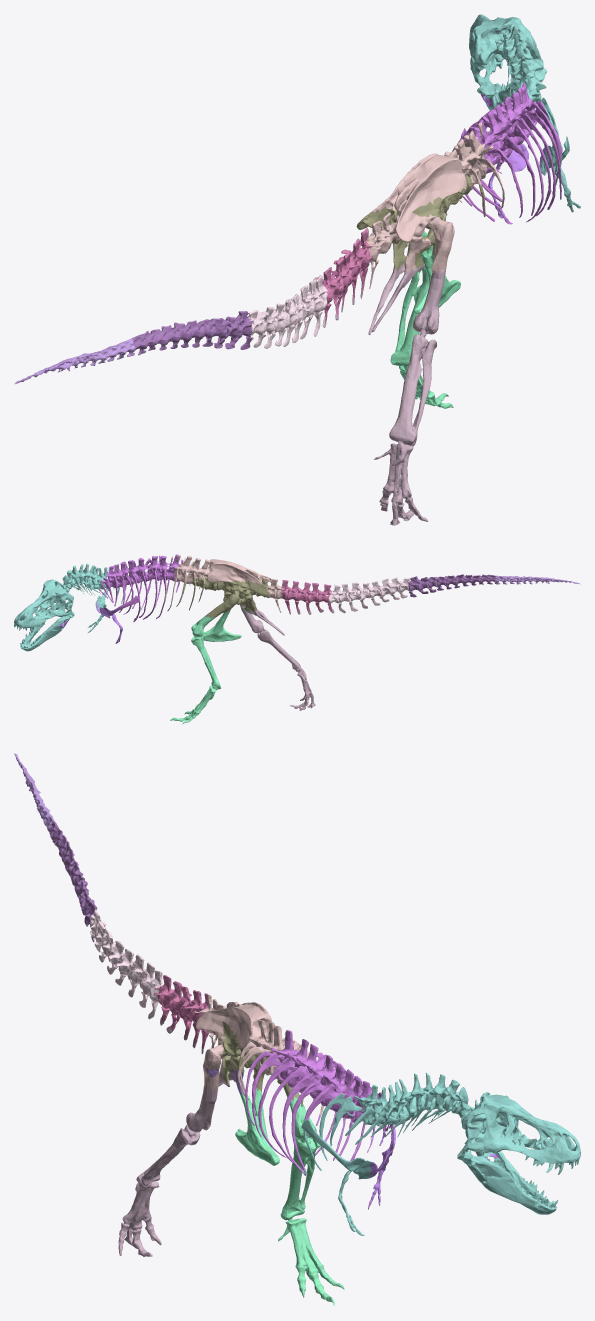
File: Trex_Chunks.fbx
The picture shows the model from 3 angles, top to bottom: view 1: azimuth 30°, elevation 25°; view 2: azimuth 150°, elevation 25°; view 3: azimuth 270°, elevation 25°; orthographic projection. The views are drawn at different scales.
Parts seen in each view (by area): view 1: CHUNK_Trex_Torso_Dorsal, CHUNK_Trex_Leg_R, CHUNK_Trex_Head, CHUNK_Trex_Neck, CHUNK_Trex_Tail_Base, CHUNK_Trex_Tail_Mid, CHUNK_Trex_Leg_Mid, CHUNK_Trex_Pelvis, CHUNK_Trex_Sacrum, CHUNK_Trex_Tail_Tip, CHUNK_Trex_Arm_L; view 2: CHUNK_Trex_Head, CHUNK_Trex_Neck, CHUNK_Trex_Torso_Dorsal, CHUNK_Trex_Pelvis, CHUNK_Trex_Leg_Mid, CHUNK_Trex_Tail_Base, CHUNK_Trex_Leg_R, CHUNK_Trex_Tail_Mid, CHUNK_Trex_Sacrum, CHUNK_Trex_Tail_Tip, CHUNK_Trex_Arm_L; view 3: CHUNK_Trex_Head, CHUNK_Trex_Neck, CHUNK_Trex_Leg_Mid, CHUNK_Trex_Torso_Dorsal, CHUNK_Trex_Leg_R, CHUNK_Trex_Tail_Base, CHUNK_Trex_Sacrum, CHUNK_Trex_Tail_Mid, CHUNK_Trex_Pelvis.
Part boxes in pixels (bbox=[...]): CHUNK_Trex_Torso_Dorsal: bbox=[366, 121, 504, 285]; CHUNK_Trex_Leg_R: bbox=[325, 264, 446, 525]; CHUNK_Trex_Head: bbox=[469, 14, 580, 212]; CHUNK_Trex_Neck: bbox=[458, 81, 562, 224]; CHUNK_Trex_Tail_Base: bbox=[248, 274, 327, 348]; CHUNK_Trex_Tail_Mid: bbox=[131, 311, 252, 355]; CHUNK_Trex_Leg_Mid: bbox=[390, 232, 460, 408]; CHUNK_Trex_Pelvis: bbox=[356, 175, 484, 270]; CHUNK_Trex_Sacrum: bbox=[314, 228, 371, 322]; CHUNK_Trex_Tail_Tip: bbox=[14, 338, 135, 384]; CHUNK_Trex_Arm_L: bbox=[480, 94, 545, 218]; CHUNK_Trex_Head: bbox=[14, 563, 125, 651]; CHUNK_Trex_Neck: bbox=[99, 554, 183, 641]; CHUNK_Trex_Torso_Dorsal: bbox=[164, 555, 283, 610]; CHUNK_Trex_Pelvis: bbox=[182, 576, 272, 618]; CHUNK_Trex_Leg_Mid: bbox=[170, 609, 249, 724]; CHUNK_Trex_Tail_Base: bbox=[326, 577, 410, 613]; CHUNK_Trex_Leg_R: bbox=[240, 604, 331, 710]; CHUNK_Trex_Tail_Mid: bbox=[408, 574, 495, 597]; CHUNK_Trex_Sacrum: bbox=[281, 580, 332, 611]; CHUNK_Trex_Tail_Tip: bbox=[494, 575, 580, 584]; CHUNK_Trex_Arm_L: bbox=[59, 601, 130, 643]; CHUNK_Trex_Head: bbox=[301, 1072, 580, 1235]; CHUNK_Trex_Neck: bbox=[245, 1030, 395, 1209]; CHUNK_Trex_Leg_Mid: bbox=[235, 1080, 344, 1305]; CHUNK_Trex_Torso_Dorsal: bbox=[194, 995, 323, 1115]; CHUNK_Trex_Leg_R: bbox=[118, 1021, 235, 1256]; CHUNK_Trex_Tail_Base: bbox=[89, 910, 163, 1025]; CHUNK_Trex_Sacrum: bbox=[153, 975, 212, 1048]; CHUNK_Trex_Tail_Mid: bbox=[47, 821, 101, 942]; CHUNK_Trex_Pelvis: bbox=[221, 1021, 303, 1106].
Size of the model in its own units: 1.4 by 0.546 by 0.9193.
